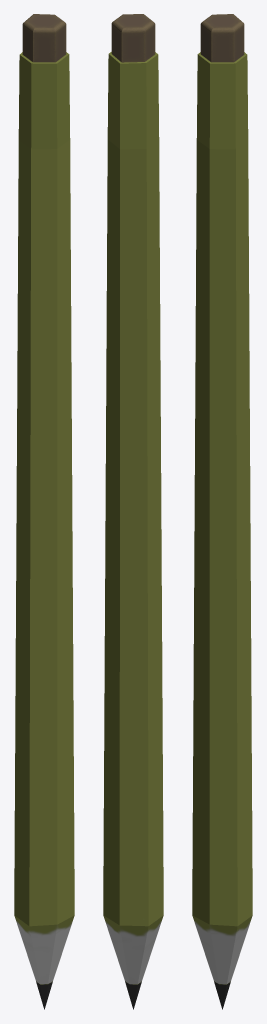
The model's file is pencil_low_poly.glb.
The picture shows the model from 3 angles, left to right: view 1: azimuth 30°, elevation 25°; view 2: azimuth 150°, elevation 25°; view 3: azimuth 330°, elevation 25°; orthographic projection.
Visible parts, largest first — view 1: Pencil, Eraser, Pencil Choombh; view 2: Pencil, Eraser, Pencil Choombh; view 3: Pencil, Eraser, Pencil Choombh.
Boxes of the visible parts, x1,y1,x2,y2 form: Pencil: (14, 52, 74, 984); Eraser: (22, 14, 66, 62); Pencil Choombh: (36, 982, 52, 1009); Pencil: (103, 52, 163, 984); Eraser: (111, 14, 155, 62); Pencil Choombh: (125, 981, 141, 1009); Pencil: (192, 52, 252, 984); Eraser: (200, 14, 244, 62); Pencil Choombh: (214, 982, 230, 1009).
Size of the model in its own units: 0.2106 by 4.38 by 0.2137.
3 materials, 3 textured.
